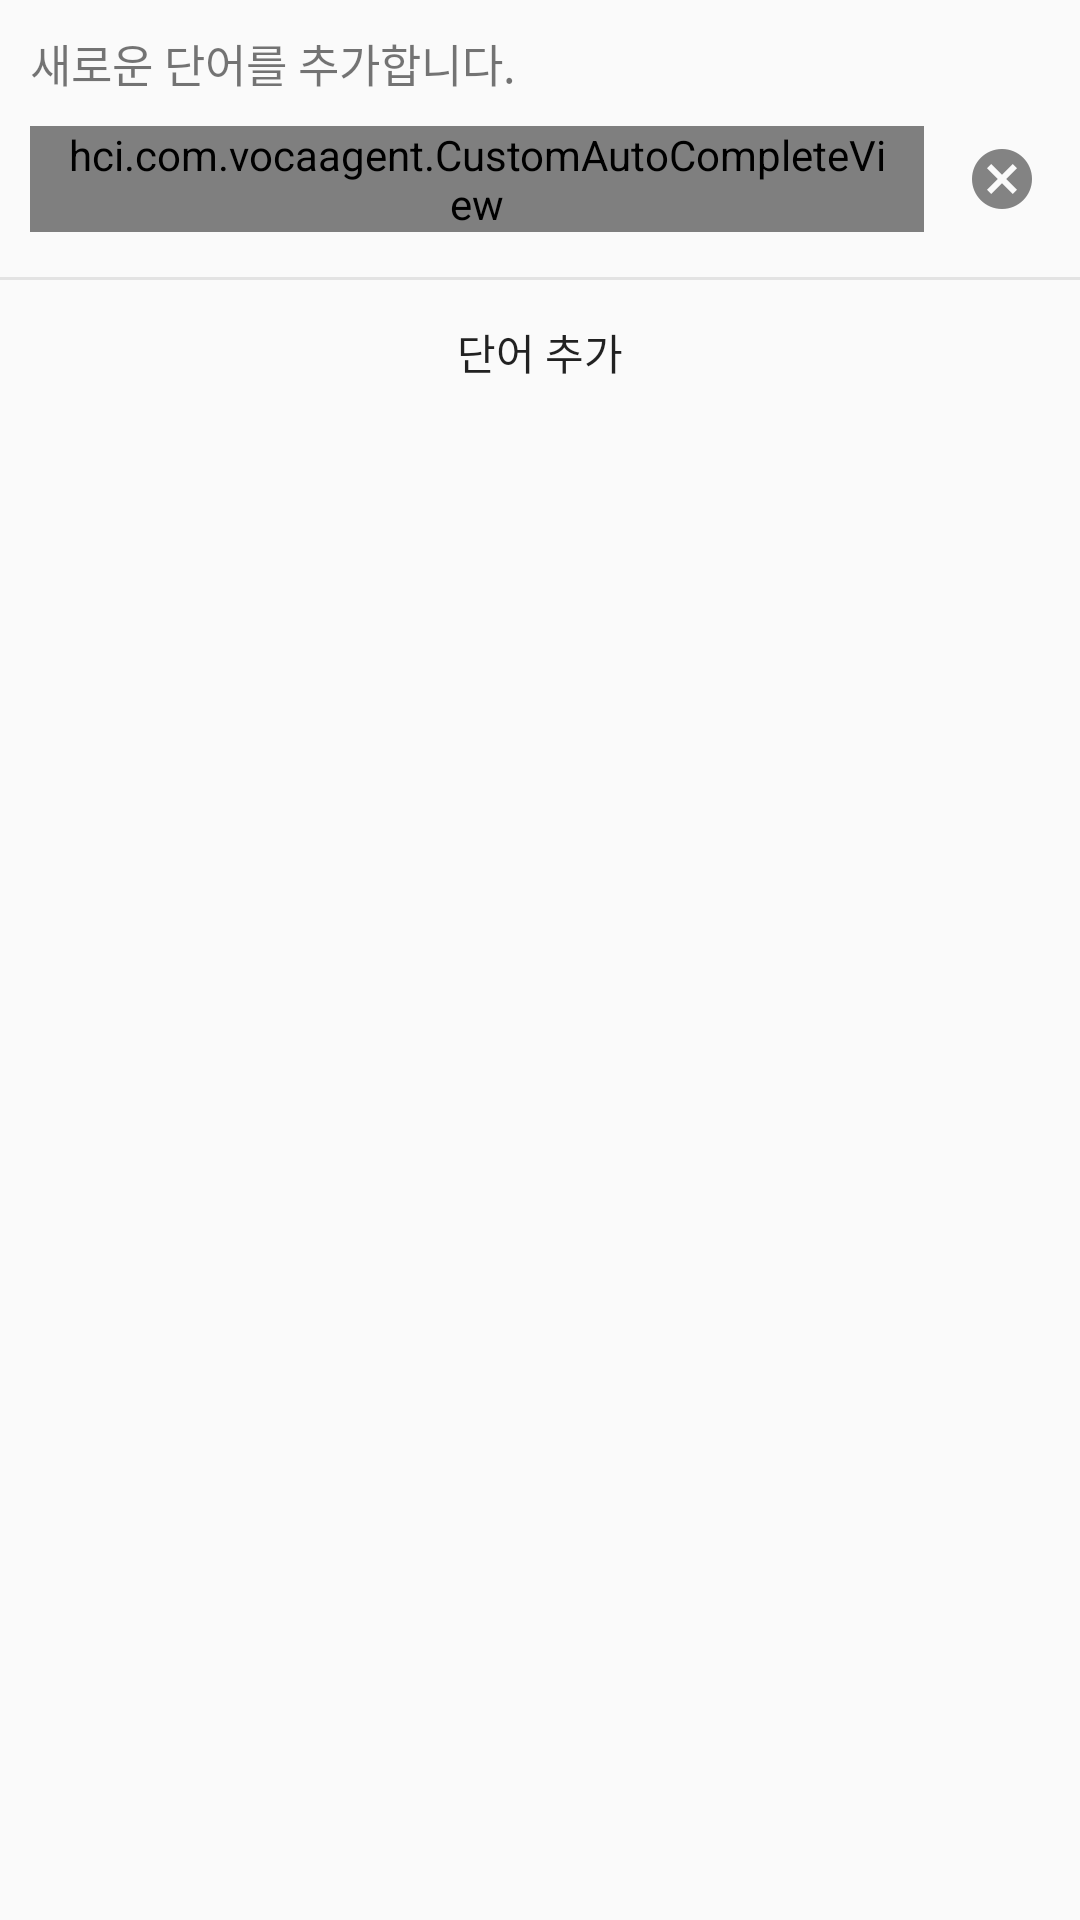

Screen size 1080w x 1920h. Icon name, then its box in pixels as (x1, y1, x2, y2):
cancel: (972, 149, 1032, 209)
